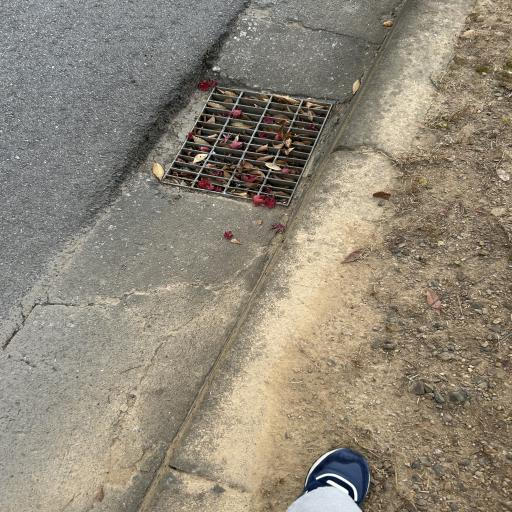debris: (234, 96, 329, 192), (208, 89, 253, 133), (269, 158, 301, 185), (198, 163, 229, 190), (186, 128, 208, 150), (251, 188, 286, 200), (219, 136, 241, 153), (246, 95, 267, 105), (169, 171, 187, 180), (187, 152, 202, 161), (251, 109, 259, 118), (209, 127, 219, 134), (207, 119, 212, 126), (216, 112, 219, 120), (160, 171, 164, 176)
drain: (159, 80, 335, 204)
